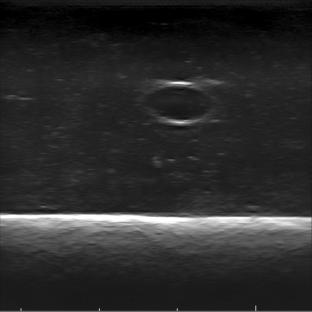vessel: (144, 81, 213, 126)
